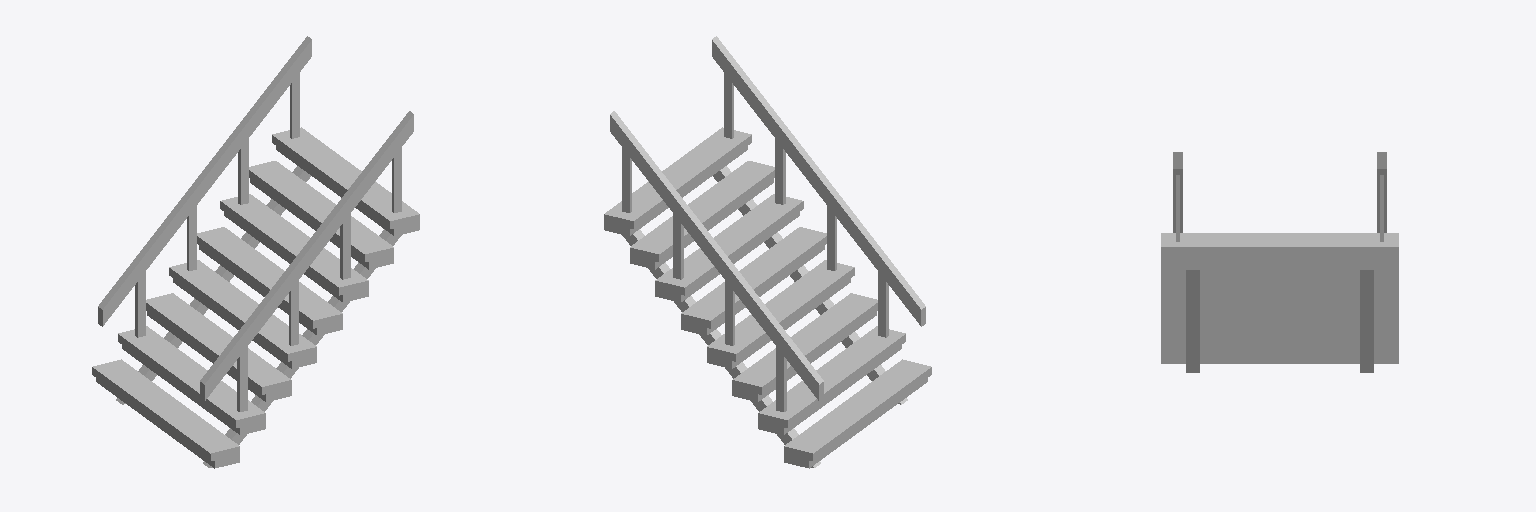
The model's file is stairsWideWoodHandrail.obj.
3 renders of one model, left to right at view 1: azimuth 30°, elevation 25°; view 2: azimuth 150°, elevation 25°; view 3: azimuth 270°, elevation 25°, orthographic.
Visible parts, largest first — view 1: stairsWideWoodHandrail, rail; view 2: stairsWideWoodHandrail, rail; view 3: stairsWideWoodHandrail, rail.
Boxes of the visible parts, x1,y1,x2,y2 form: stairsWideWoodHandrail: [92, 127, 419, 468]; rail: [98, 36, 413, 411]; stairsWideWoodHandrail: [604, 127, 931, 468]; rail: [610, 36, 925, 411]; stairsWideWoodHandrail: [1161, 233, 1398, 372]; rail: [1173, 152, 1386, 241].
Bounding box in the file's own units: 1.02 × 1.45 × 1.